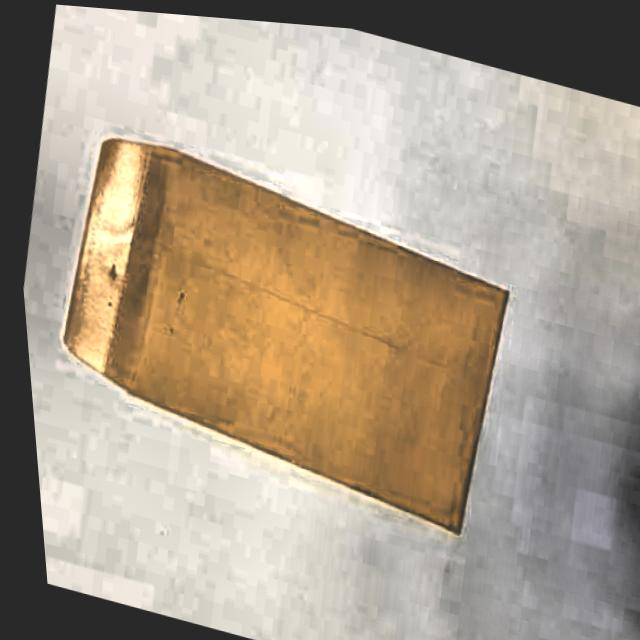Paper: (19, 106, 563, 558)
